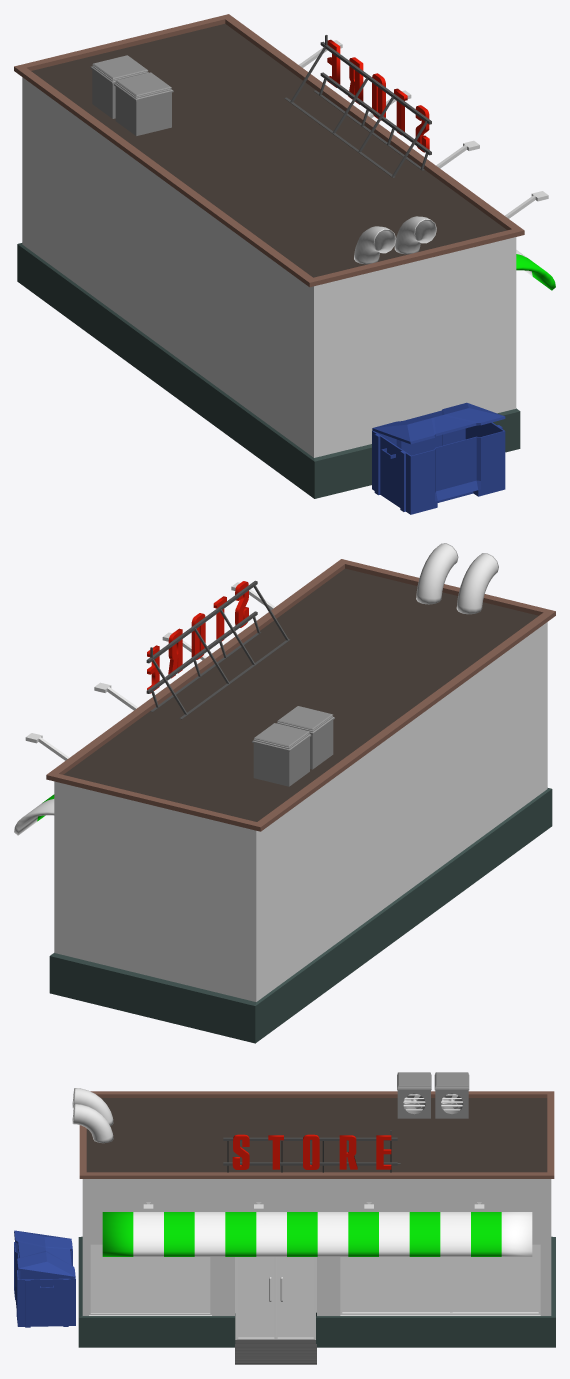
The model's file is storeexample.glb.
3 renders of one model, top to bottom at view 1: azimuth 30°, elevation 25°; view 2: azimuth 150°, elevation 25°; view 3: azimuth 270°, elevation 25°, orthographic. The views are drawn at different scales.
Visible parts, largest first — view 1: Cube, Cube.001, Cube.016, Cube.018, Cube.014, Cube.017, Text, Cube.015, Circle.002, Circle.001, Circle; view 2: Cube, Cube.001, Cube.018, Cube.015, Text, Cube.014, Circle.002, Circle.001, Circle; view 3: Cube, Circle, Cube.003, Cube.001, Cube.016, Cube.009, Cube.007, Text, Cube.017, Cube.002, Cube.015, Cube.014 (+5 smaller).
Part boxes in pixels (x1,y1,x2,y2): Cube: (17,24,520,498); Cube.001: (14,14,524,287); Cube.016: (372,422,505,514); Cube.018: (284,35,431,177); Cube.014: (114,72,173,136); Cube.017: (372,402,505,444); Text: (327,39,429,152); Cube.015: (90,55,148,118); Circle.002: (394,216,436,254); Circle.001: (354,226,396,264); Circle: (516,250,555,290); Cube: (49,568,552,1043); Cube.001: (46,559,555,831); Cube.018: (146,580,290,719); Cube.015: (252,723,311,786); Text: (147,581,248,693); Cube.014: (277,706,334,769); Circle.002: (416,543,458,604); Circle.001: (456,553,498,614); Circle: (14,794,54,835); Cube: (78,1098,555,1347); Circle: (102,1212,532,1256); Cube.003: (340,1244,540,1314); Cube.001: (79,1091,554,1178); Cube.016: (14,1241,75,1327); Cube.009: (277,1257,313,1337); Cube.007: (238,1257,274,1337); Text: (232,1134,391,1169); Cube.017: (14,1230,75,1278); Cube.002: (235,1339,316,1364); Cube.015: (434,1072,469,1118); Cube.014: (397,1072,431,1118).
Bounding box in the file's own units: 9.38 × 8.71 × 19.66.
